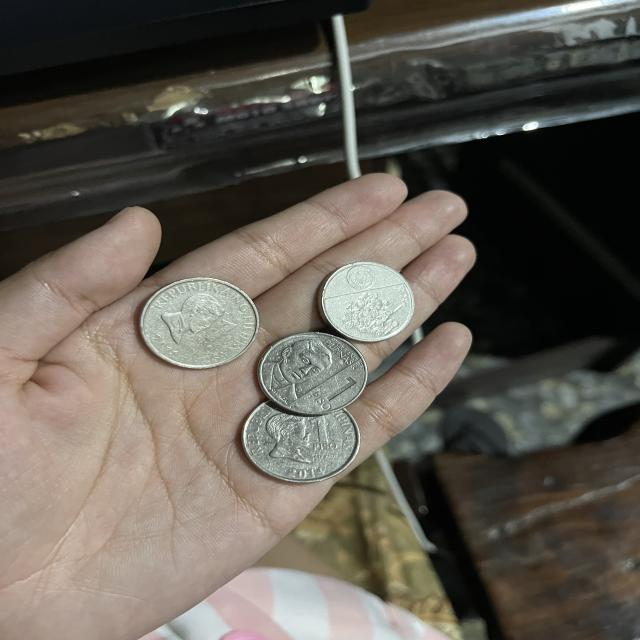1_New_Back: (332, 290, 416, 340)
1_New_Front: (307, 376, 360, 412)
1_Old_Front: (301, 413, 345, 465), (190, 314, 238, 352)
